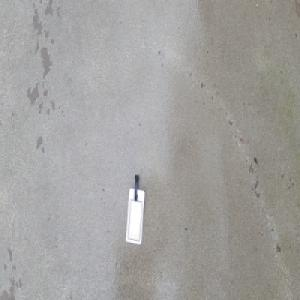LuggageTag: (124, 173, 145, 245)
